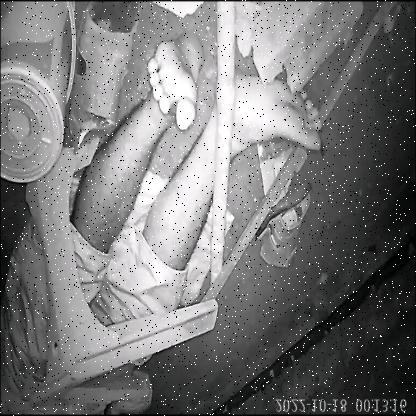leg: (141, 65, 332, 270), (69, 22, 213, 259)
